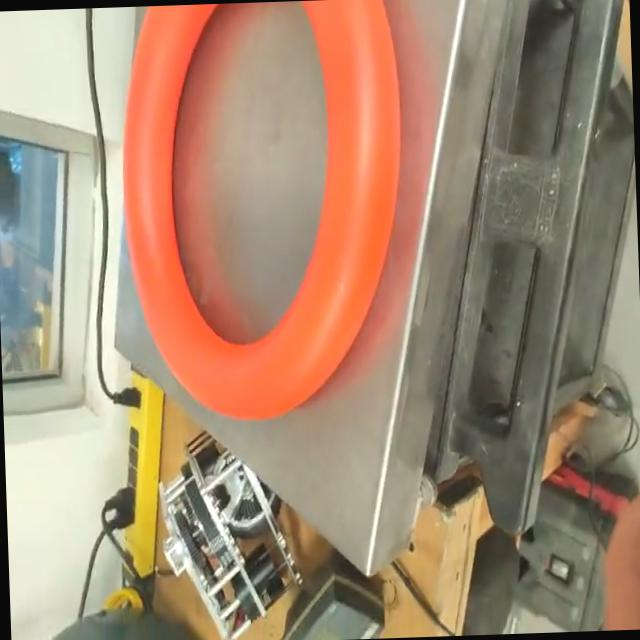note: (115, 0, 416, 434)
